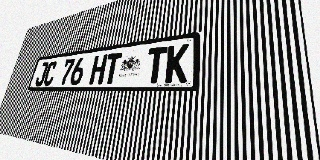6: (69, 57, 87, 85)
7: (58, 58, 75, 86)
C: (42, 61, 58, 86)
H: (89, 54, 108, 85)
J: (34, 62, 49, 86)
K: (165, 43, 189, 83)
T: (144, 46, 168, 83), (102, 52, 122, 84)
